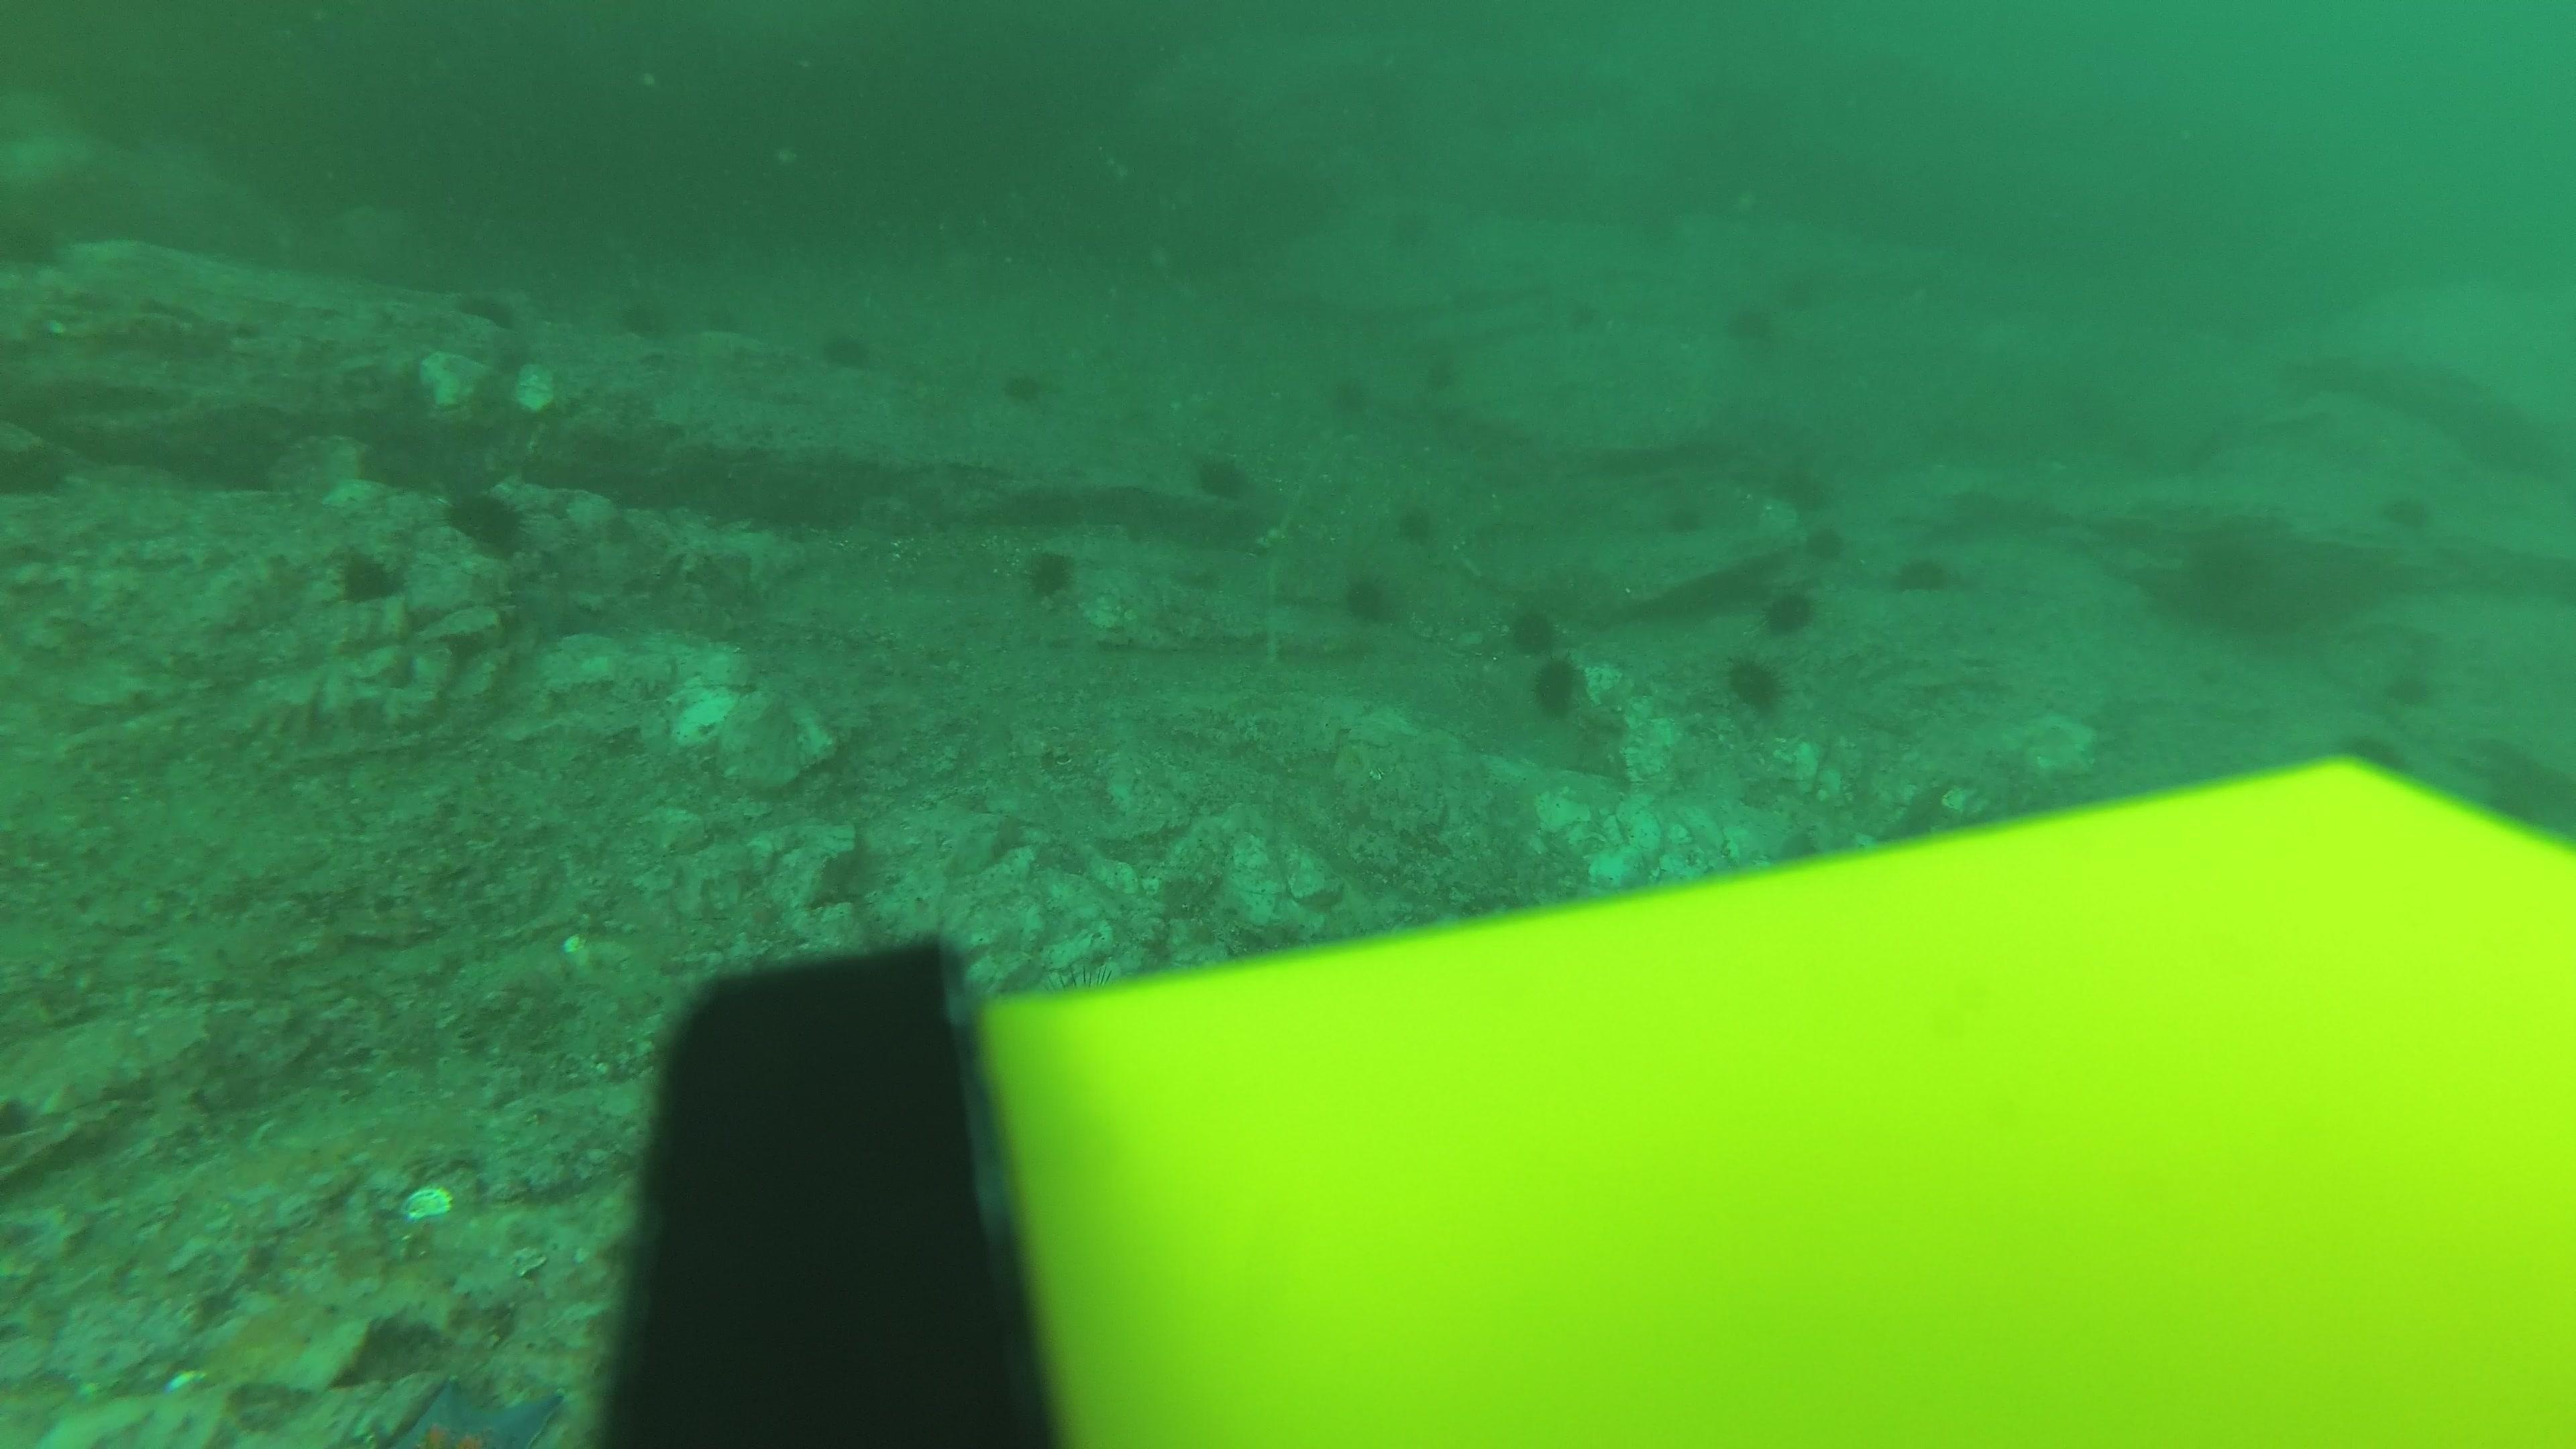echinus: (444, 481, 531, 557), (0, 423, 80, 502), (327, 541, 407, 609), (1017, 541, 1085, 607), (1721, 651, 1789, 717), (1525, 649, 1587, 720), (1502, 600, 1569, 662), (1189, 444, 1254, 506), (1775, 456, 1838, 517), (1890, 547, 1960, 600), (2365, 656, 2436, 709), (2369, 481, 2438, 534), (1339, 568, 1399, 628), (1759, 580, 1821, 639), (1721, 294, 1783, 352), (694, 292, 754, 347), (998, 359, 1058, 414), (1311, 364, 1371, 419), (1422, 347, 1483, 402), (1560, 274, 1621, 329), (1376, 195, 1437, 249), (826, 327, 886, 382), (1640, 483, 1700, 536), (614, 290, 672, 343), (458, 280, 517, 333), (1392, 495, 1438, 547), (1801, 520, 1849, 566)
starfish: (389, 1369, 566, 1442), (502, 570, 605, 646)
